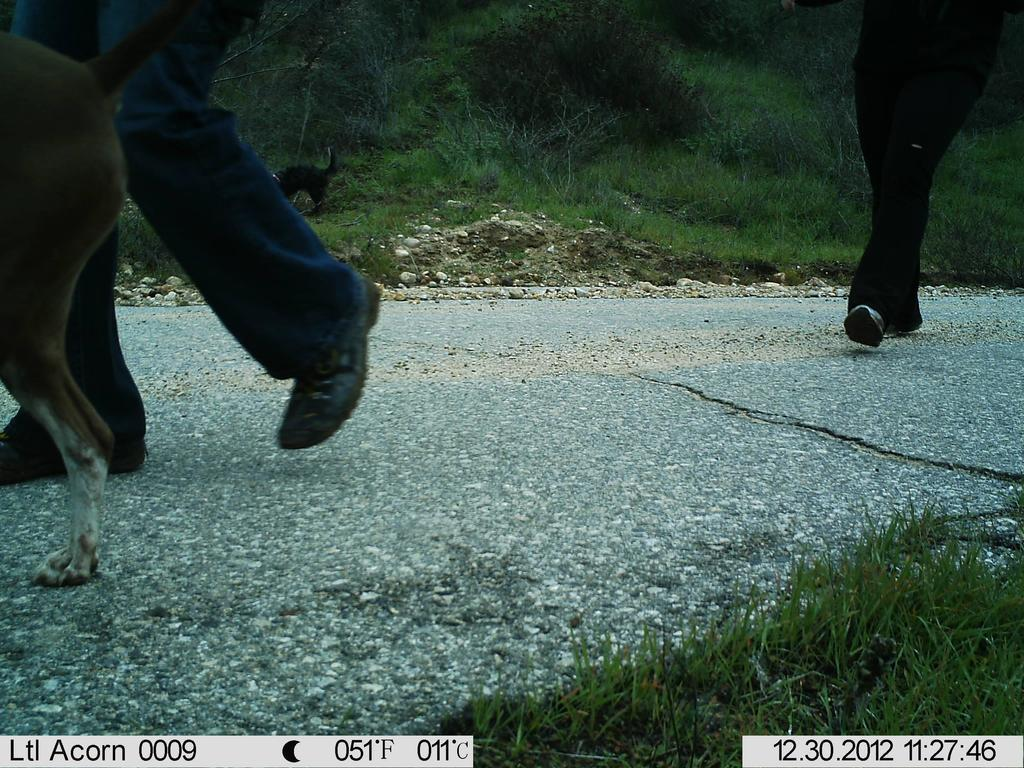dog: (1, 1, 203, 594), (257, 149, 343, 232)
